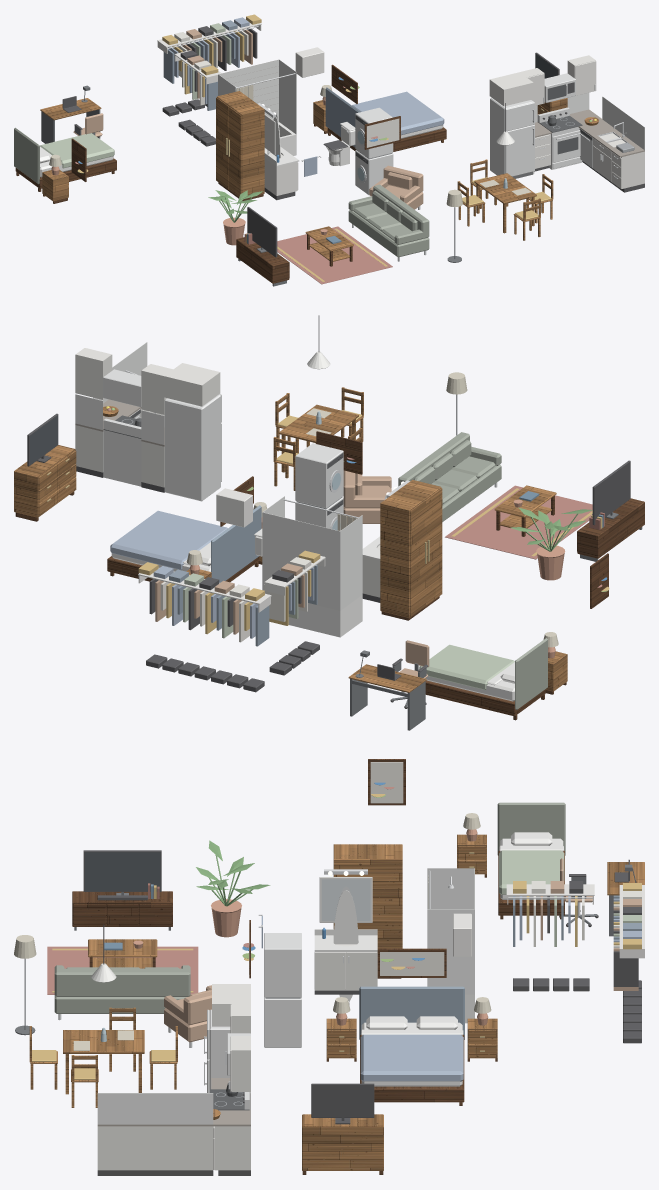
The model's file is apt_r.glb.
3 views of the same model, one above another, from view 1: azimuth 30°, elevation 25°; view 2: azimuth 150°, elevation 25°; view 3: azimuth 270°, elevation 25° (orthographic). The views are drawn at different scales.
Visible parts, largest first — view 1: apt_r_wood, apt_r_appl, apt_r_cab, apt_r_fabric_g, apt_r_tile_w, apt_r_dkwood, apt_r_dark, apt_r_rug, apt_r_bed_b, apt_r_fabric_t, apt_r_fabric2, apt_r_trim (+12 smaller); view 2: apt_r_wood, apt_r_appl, apt_r_tile_w, apt_r_cab, apt_r_dkwood, apt_r_dark, apt_r_fabric_g, apt_r_bed_b, apt_r_rug, apt_r_fabric_t, apt_r_fabric2, apt_r_bed_g (+10 smaller); view 3: apt_r_wood, apt_r_cab, apt_r_tile_w, apt_r_fabric_g, apt_r_dark, apt_r_dkwood, apt_r_appl, apt_r_bed_b, apt_r_fabric2, apt_r_bed_w, apt_r_paper, apt_r_screen (+14 smaller).
Part boxes in pixels (x1,y1,x2,y2): apt_r_wood: [40, 91, 598, 261]; apt_r_appl: [355, 73, 592, 195]; apt_r_cab: [264, 55, 644, 195]; apt_r_fabric_g: [14, 127, 429, 257]; apt_r_tile_w: [218, 59, 644, 150]; apt_r_dkwood: [15, 64, 446, 283]; apt_r_dark: [62, 26, 644, 257]; apt_r_rug: [75, 86, 593, 284]; apt_r_bed_b: [168, 17, 444, 176]; apt_r_fabric_t: [73, 28, 423, 209]; apt_r_fabric2: [163, 20, 360, 147]; apt_r_trim: [157, 19, 324, 154]; apt_r_wood: [14, 387, 567, 692]; apt_r_appl: [103, 369, 343, 528]; apt_r_tile_w: [75, 342, 362, 610]; apt_r_cab: [75, 348, 380, 597]; apt_r_dkwood: [15, 431, 644, 720]; apt_r_dark: [27, 315, 630, 708]; apt_r_fabric_g: [398, 432, 547, 710]; apt_r_bed_b: [110, 510, 314, 638]; apt_r_rug: [107, 408, 602, 587]; apt_r_fabric_t: [155, 470, 429, 678]; apt_r_fabric2: [169, 505, 317, 646]; apt_r_bed_g: [183, 573, 514, 689]; apt_r_wood: [29, 834, 644, 1170]; apt_r_cab: [97, 944, 377, 1170]; apt_r_tile_w: [97, 868, 474, 1124]; apt_r_fabric_g: [54, 802, 565, 1013]; apt_r_dark: [83, 850, 641, 1175]; apt_r_dkwood: [72, 759, 564, 1174]; apt_r_appl: [207, 933, 301, 1109]; apt_r_bed_b: [261, 896, 641, 1081]; apt_r_fabric2: [359, 895, 641, 1039]; apt_r_bed_w: [361, 832, 563, 1086]; apt_r_paper: [249, 762, 641, 1005]; apt_r_screen: [85, 852, 160, 890].
Size of the model in its own units: 11.68 by 3.05 by 10.03.
37 materials, 2 textured.
